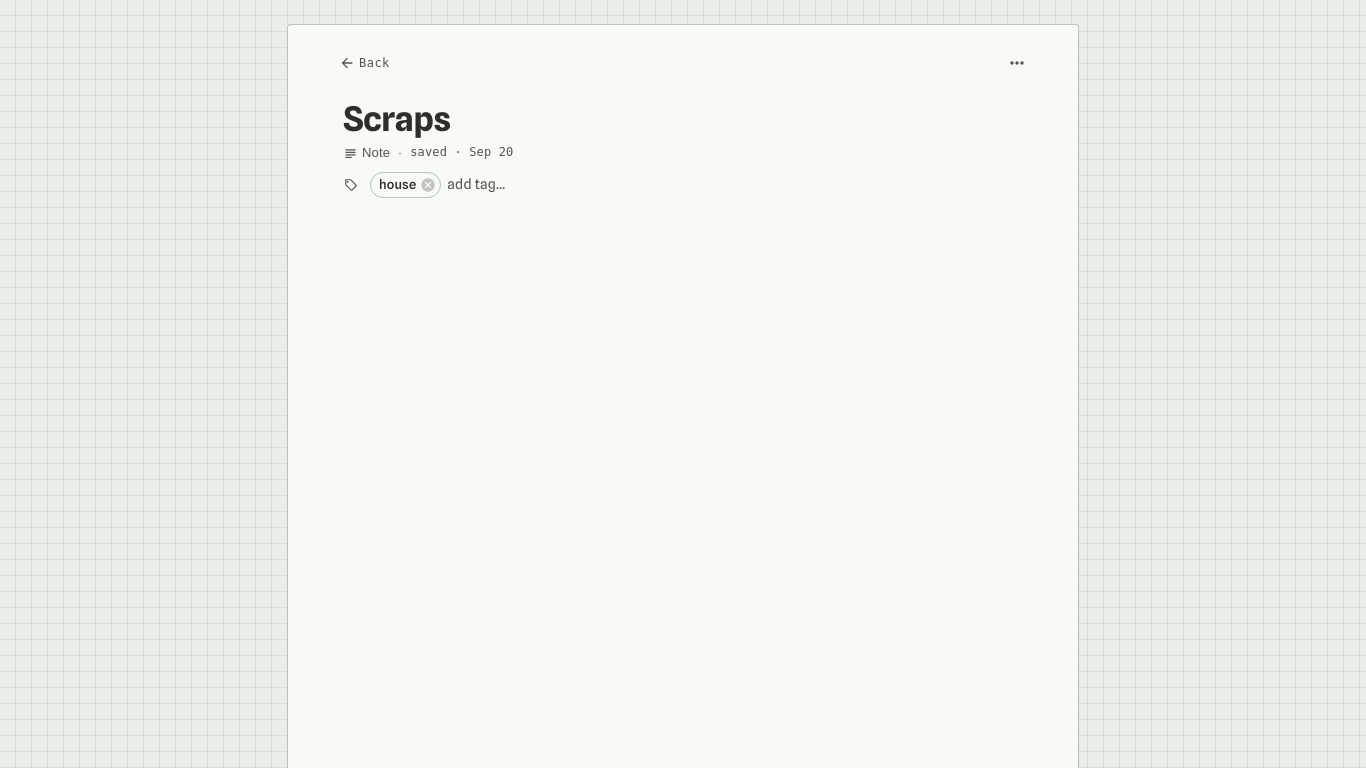
Scenario: composing a note › explains a discarded loop, and offers a retry rather than a document
Click the button named "More note actions": (1017, 63) [1001,47,1033,79]
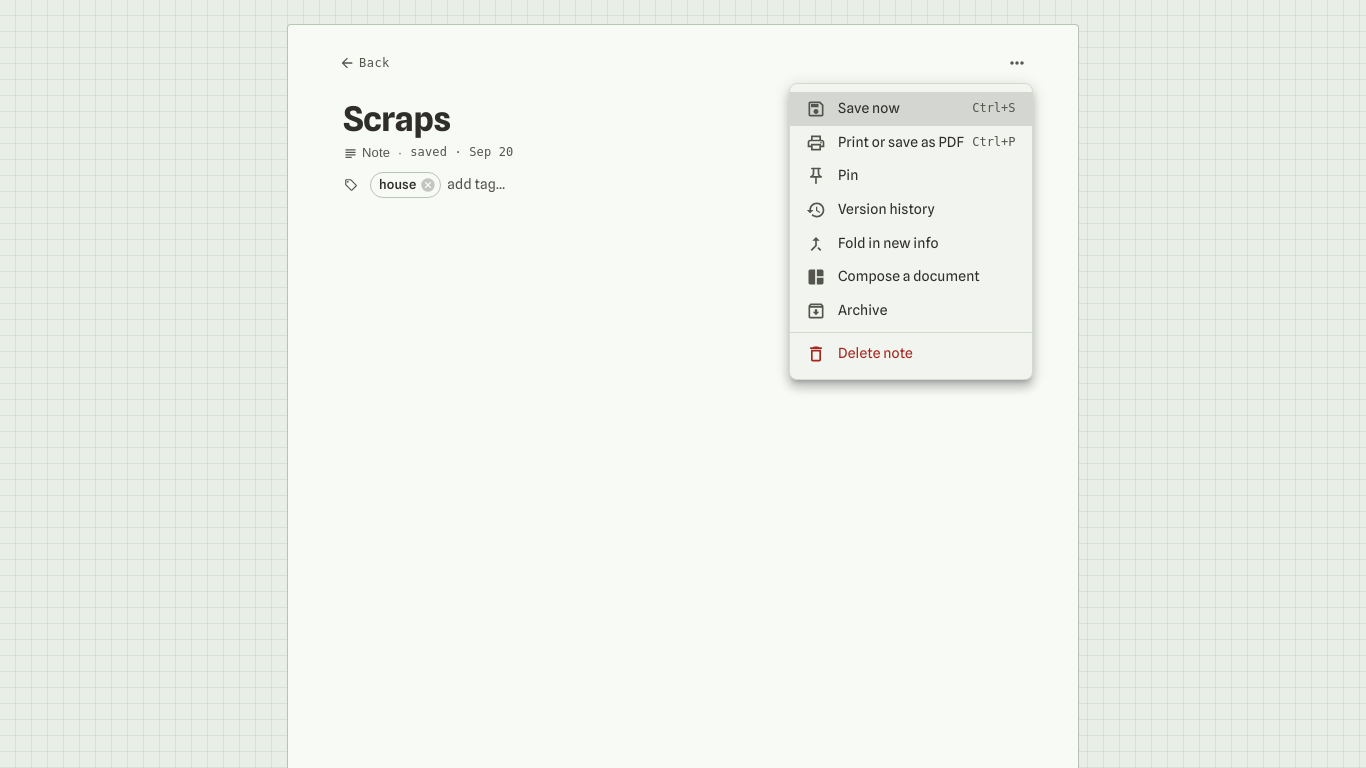
Click the menu item with aria-label "Compose a document from this note": (893, 277) [806,267,980,287]
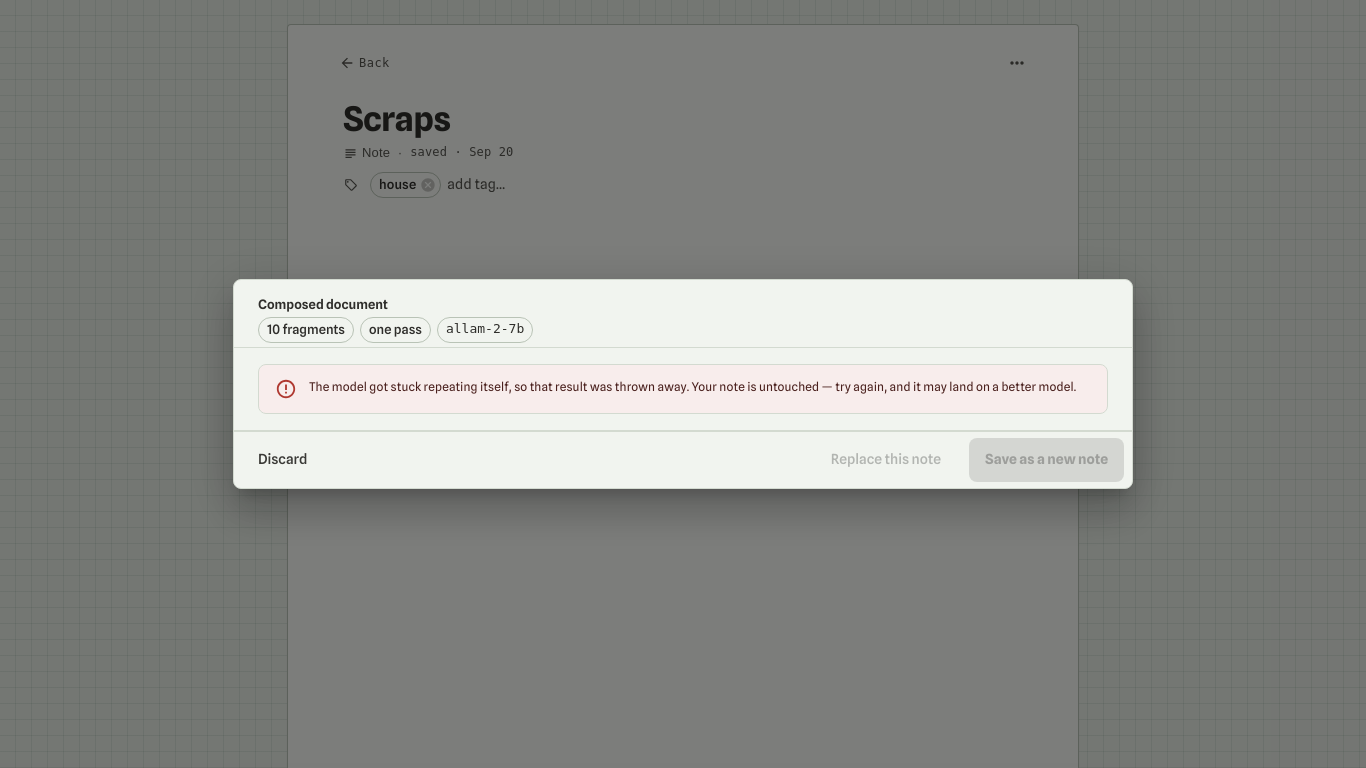
Expected: the text "try again" is shown, [309,379,1076,394]
Expected: the text "allam-2-7b" is shown, [446,322,524,336]
